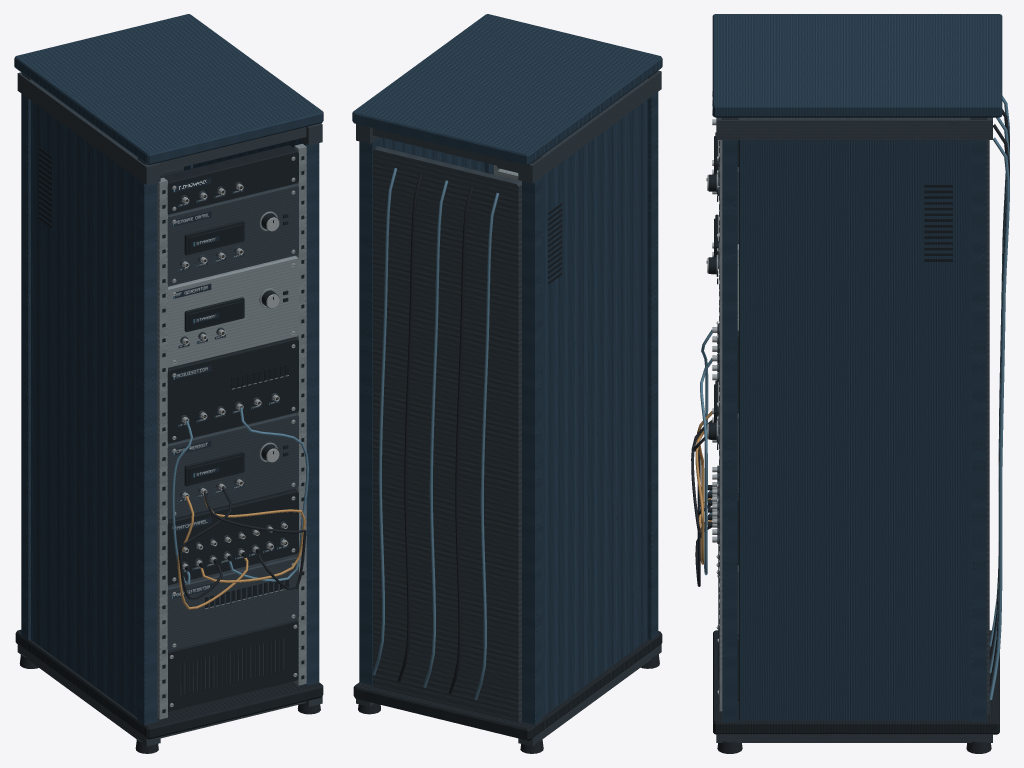
Rendered from electronics-rack.glb.
3 renders of one model, left to right at view 1: azimuth 30°, elevation 25°; view 2: azimuth 150°, elevation 25°; view 3: azimuth 270°, elevation 25°, orthographic. The views are drawn at different scales.
Visible parts, largest first — view 1: electronics-rack; view 2: electronics-rack; view 3: electronics-rack.
Part boxes in pixels (x1,y1,x2,y2): electronics-rack: (14, 14, 323, 753); electronics-rack: (352, 14, 662, 753); electronics-rack: (691, 14, 1009, 753).
Bounding box in the file's own units: 0.6442 × 2.04 × 0.9099.
Materials: 11 (7 with a texture image).
